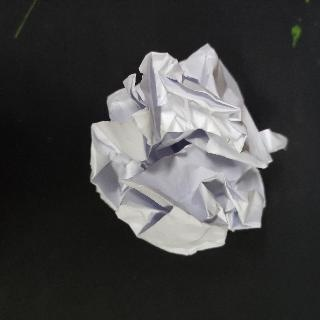8/可回收垃圾/纸: (89, 43, 288, 256)
